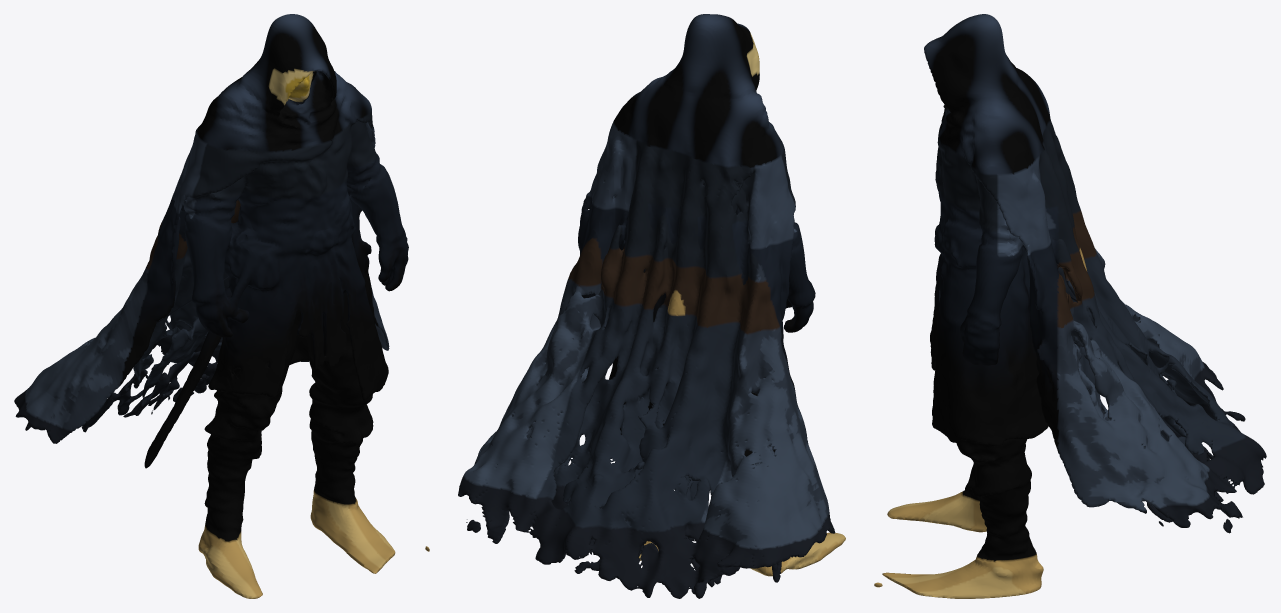
The model's file is hero-adventurer.glb.
The picture shows the model from 3 angles, left to right: view 1: azimuth 30°, elevation 25°; view 2: azimuth 150°, elevation 25°; view 3: azimuth 270°, elevation 25°; orthographic projection.
Visible parts, largest first — view 1: world; view 2: world; view 3: world.
Part boxes in pixels (left/top/right/bottom): world: left=14, top=14, right=429, bottom=598; world: left=458, top=14, right=845, bottom=598; world: left=874, top=14, right=1266, bottom=598.
Size of the model in its own units: 1.3 by 1.96 by 1.29.
